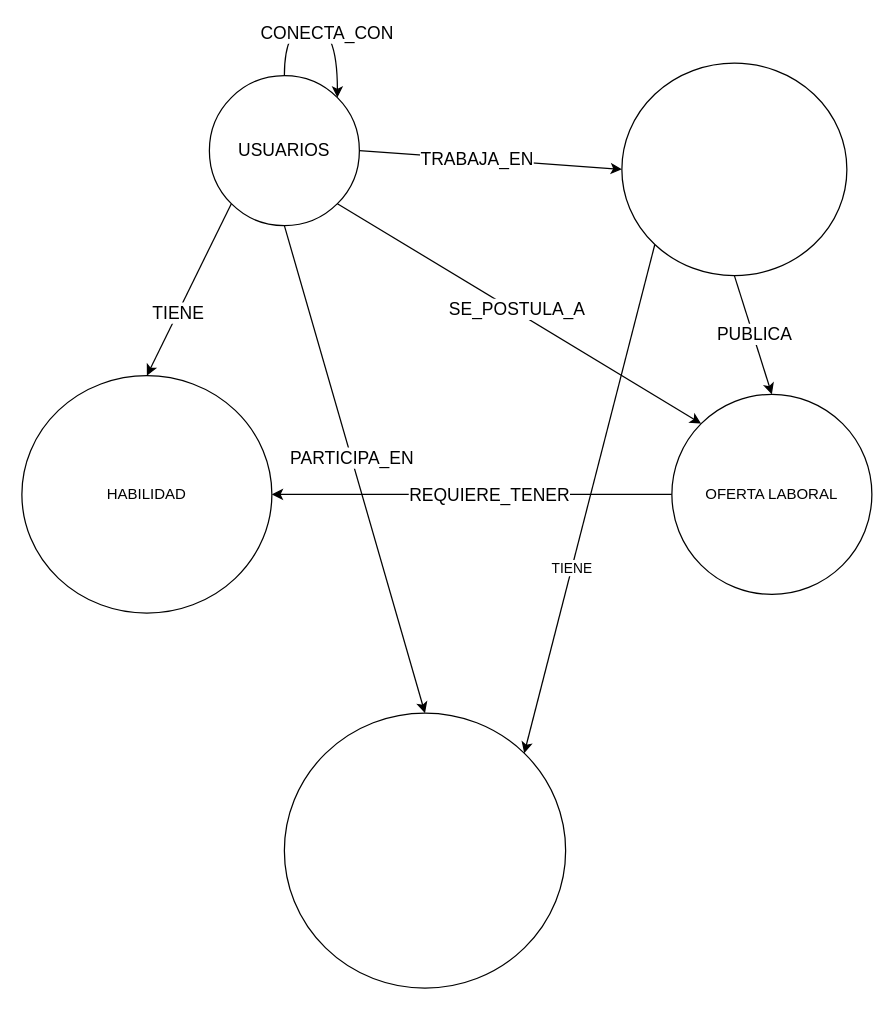
This 894x1010 diagram has some shape labels left out. Here are the shapes that lost their labels. From the top down, the centre of each, then its label:
point 734,169: EMPRESA
point 424,850: PROYECTO
